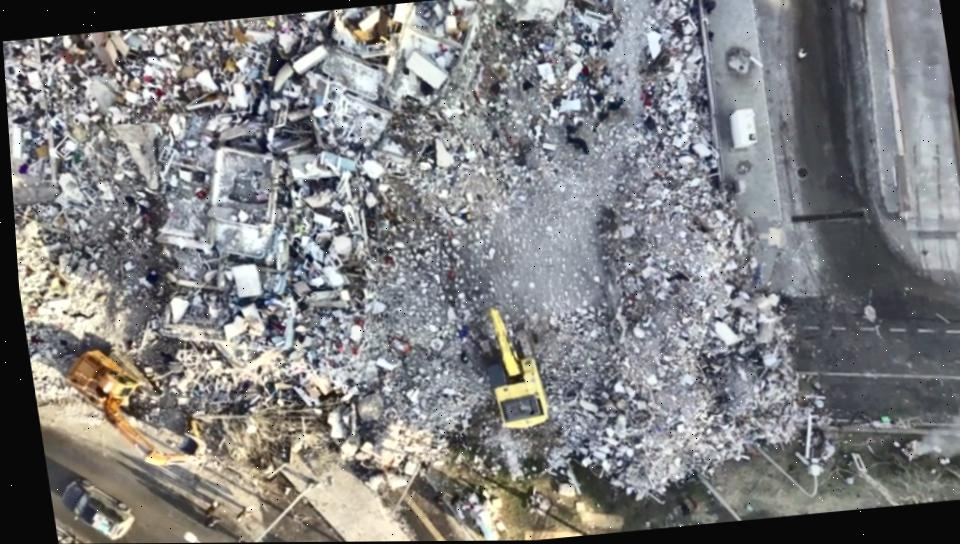kapali: (22, 308, 866, 428)
